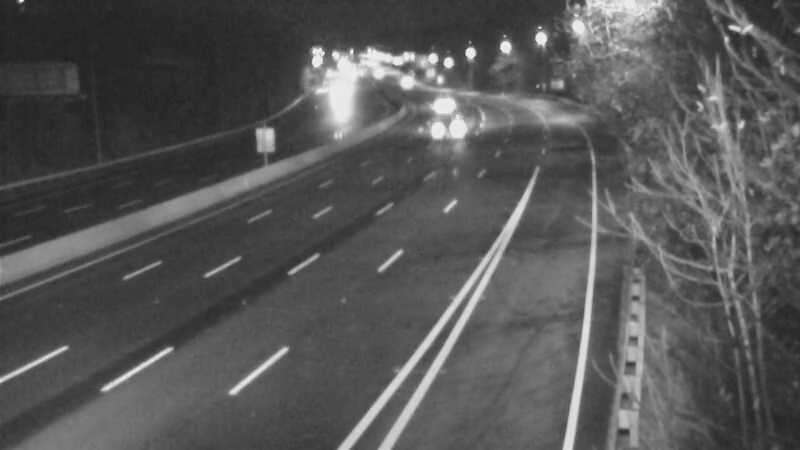vehicle: (380, 59, 430, 109), (421, 78, 471, 128), (415, 102, 465, 152), (314, 76, 364, 126)
